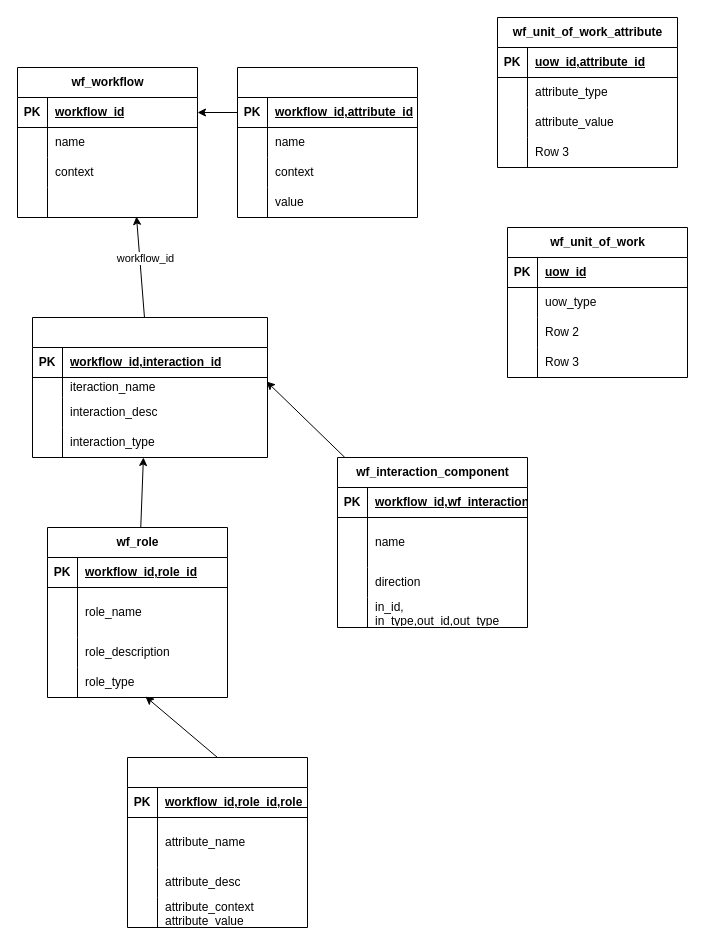
Image size: 705x945. Some labels were removed from this diagram. The box of each missing label's shape, as (x1, y1, x2, y2) in pixels:
wf_interaction: (32, 316, 268, 458)
wf_role_attribute: (126, 756, 308, 928)
wf_workflow_attributes: (236, 66, 418, 218)
